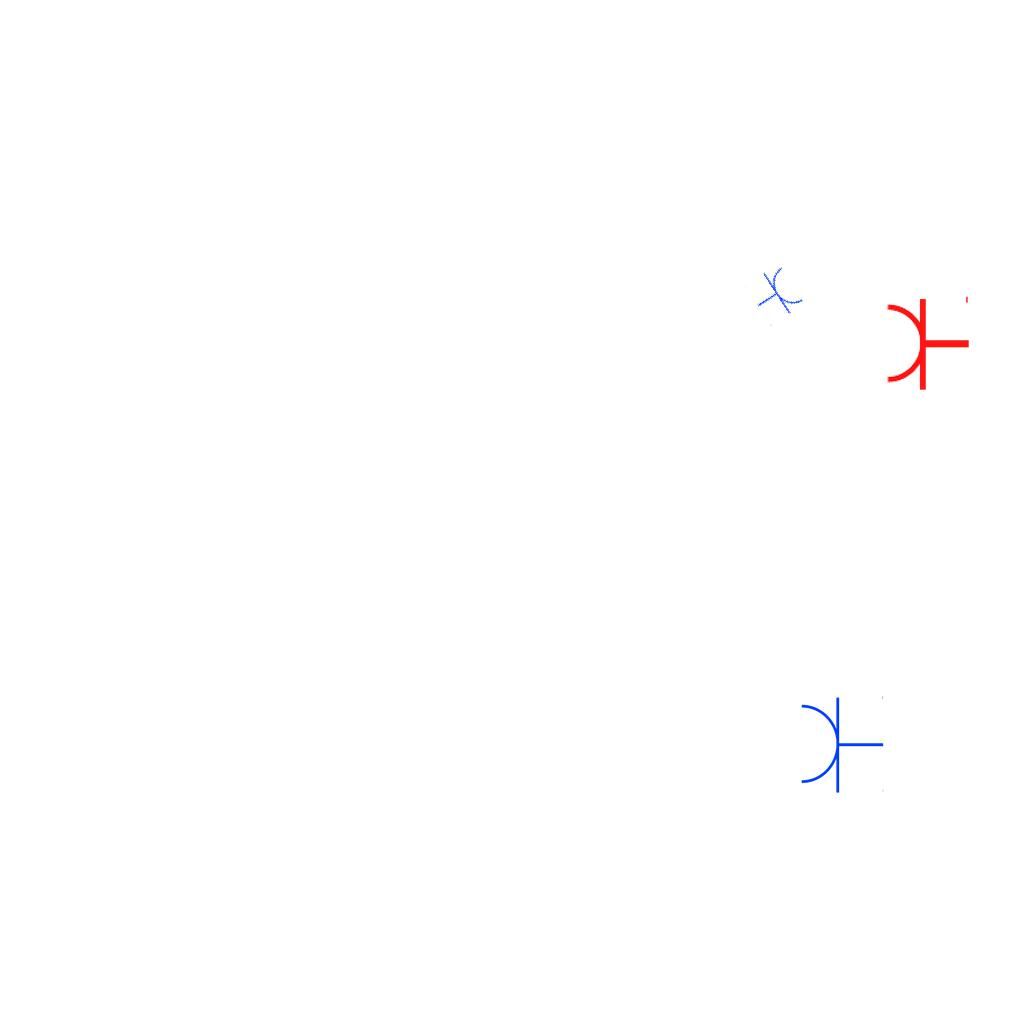Schukosteckdose_einfach: (884, 292, 971, 392), (797, 694, 884, 794), (744, 261, 808, 328)
